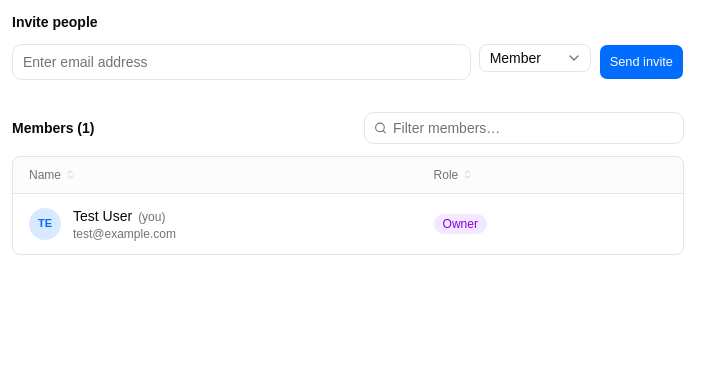
Test: invite section › shows the shareable invite link on success
The width and height of the screenshot is (701, 386).
expect the text "Test User" is shown: met, box [73,208,132,224]
Type "newmember@example.com" into the field with placeholder "Enter email address" at [241, 62], box [12,44,471,80]
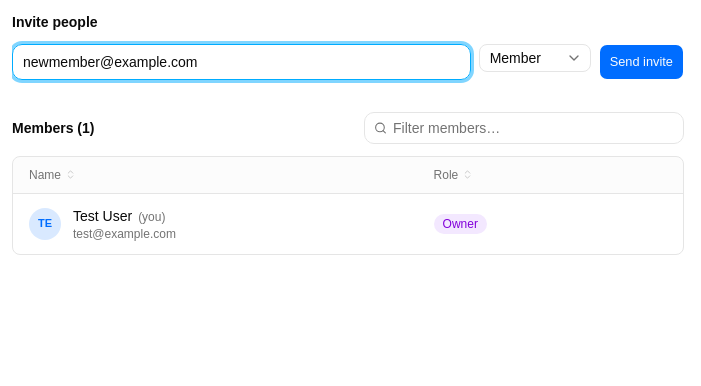
Click the button "Send invite" at [641, 62], box [599,44,684,80]
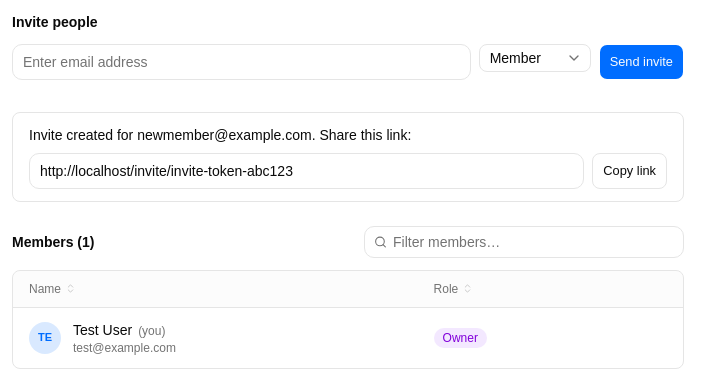
expect the text "Invite created for newmember@example.com. Share this link:" is shown: met, box [29,127,411,143]
